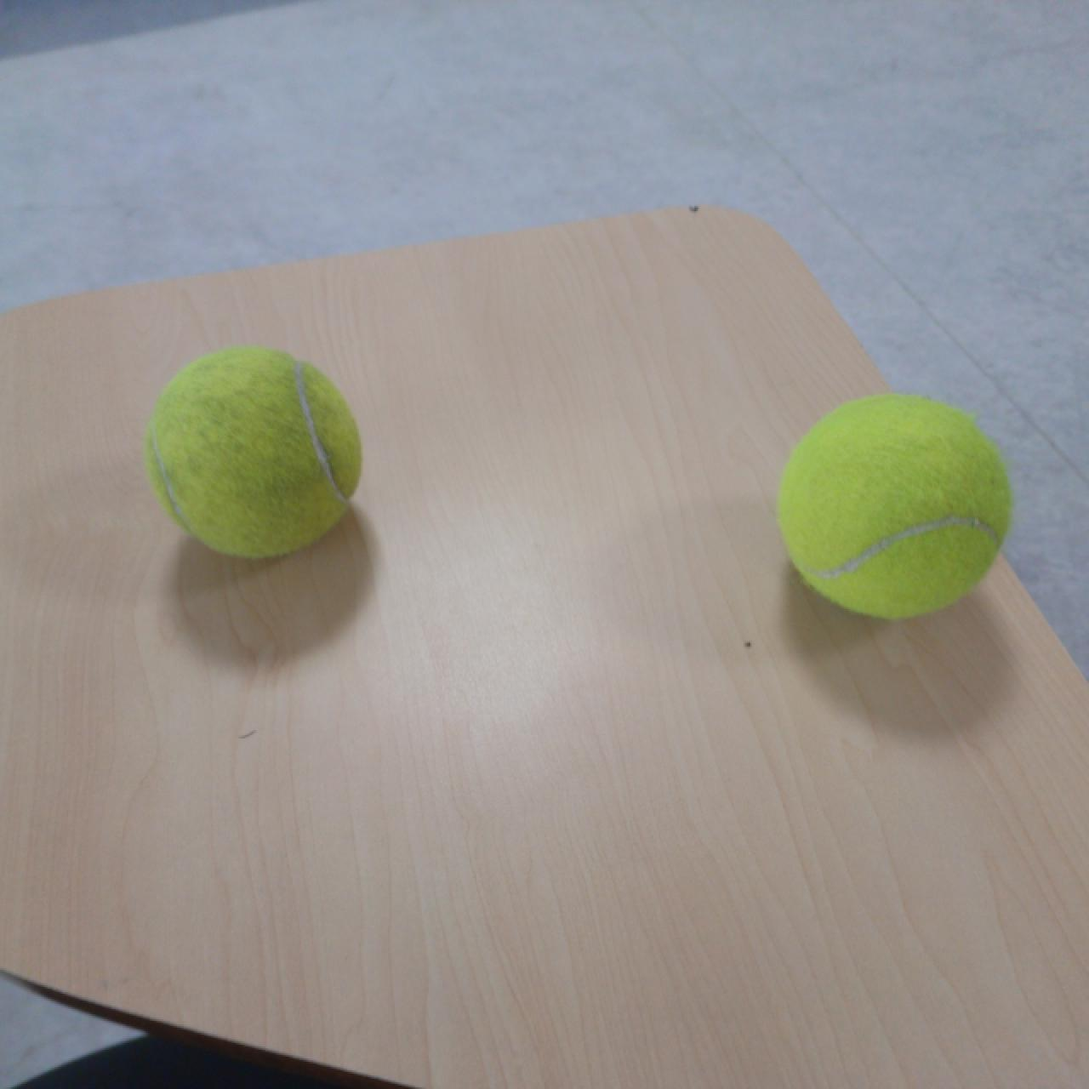tennis-ball: (776, 391, 1011, 622), (142, 345, 363, 563)
